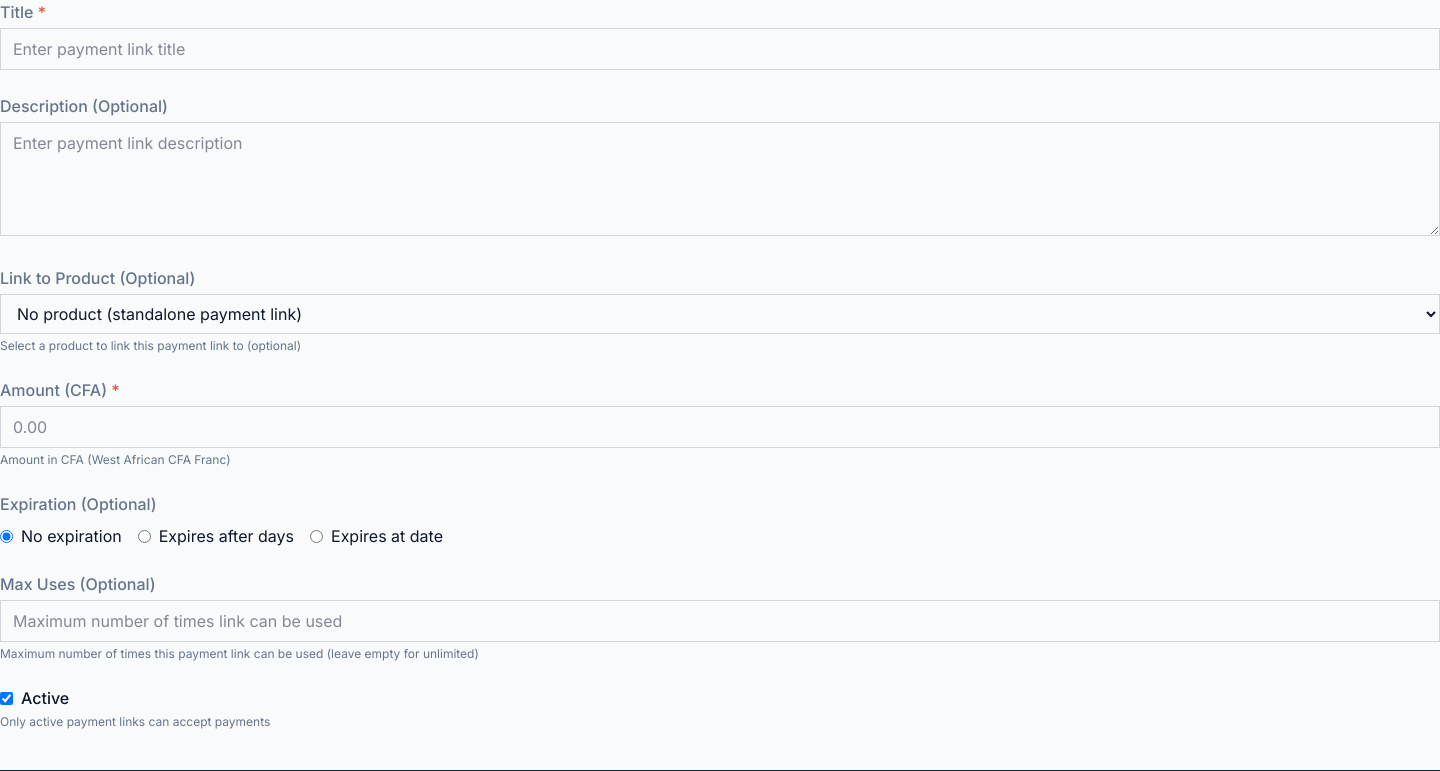
Test: PaymentLinkForm › auto-fills amount when product is selected
Select "Test Product - 10 000 F CFA" in the dropdown labelled "Link to Product (Optional)" at (720, 314), box [0,294,1439,334]
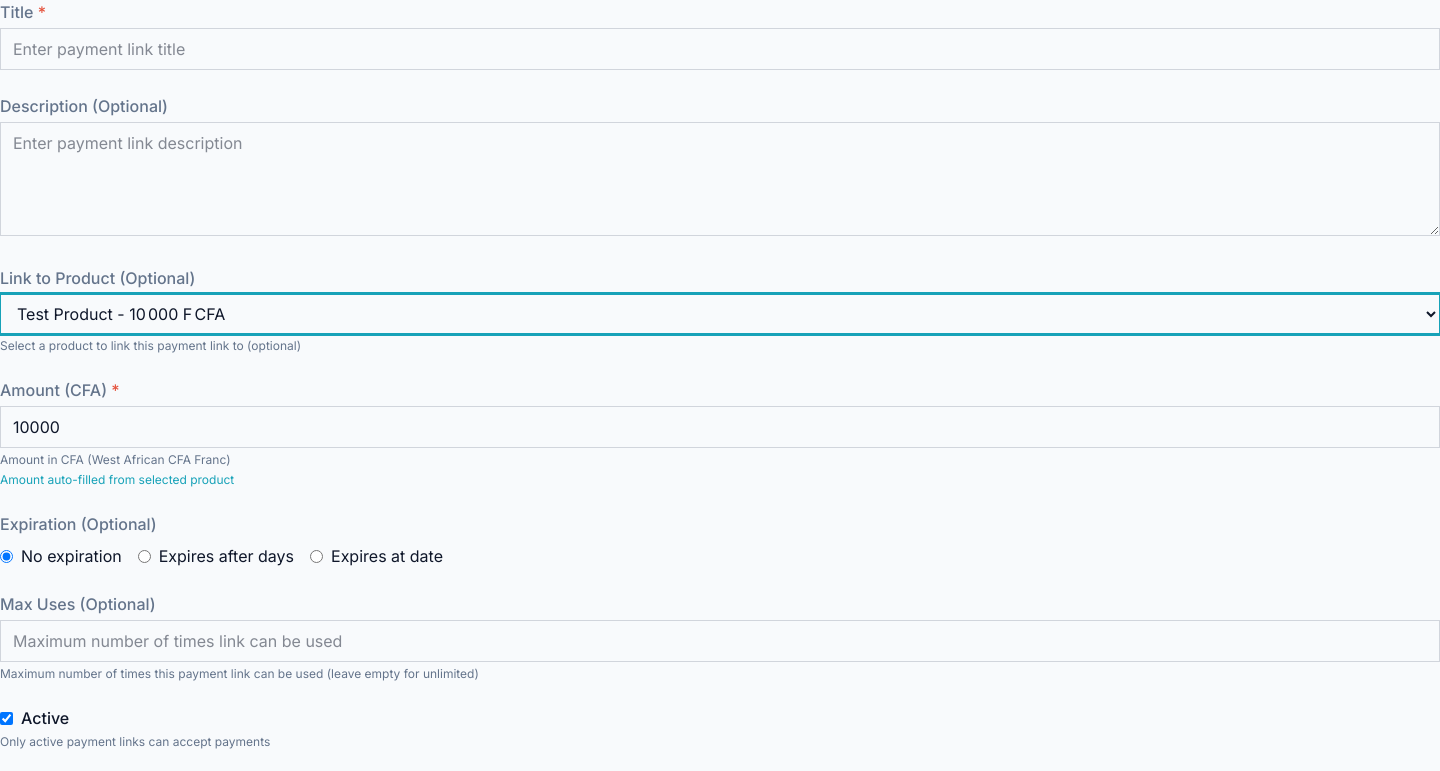
Expected: the number field labelled "Amount (CFA) *" holds "10000", [0,406,1439,448]
